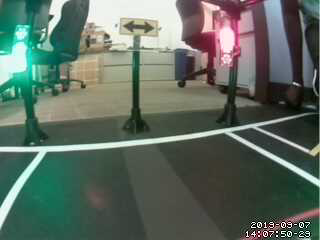Traffic_light_green: (13, 25, 26, 70)
Traffic_light_red: (217, 15, 236, 63), (121, 17, 158, 34)
